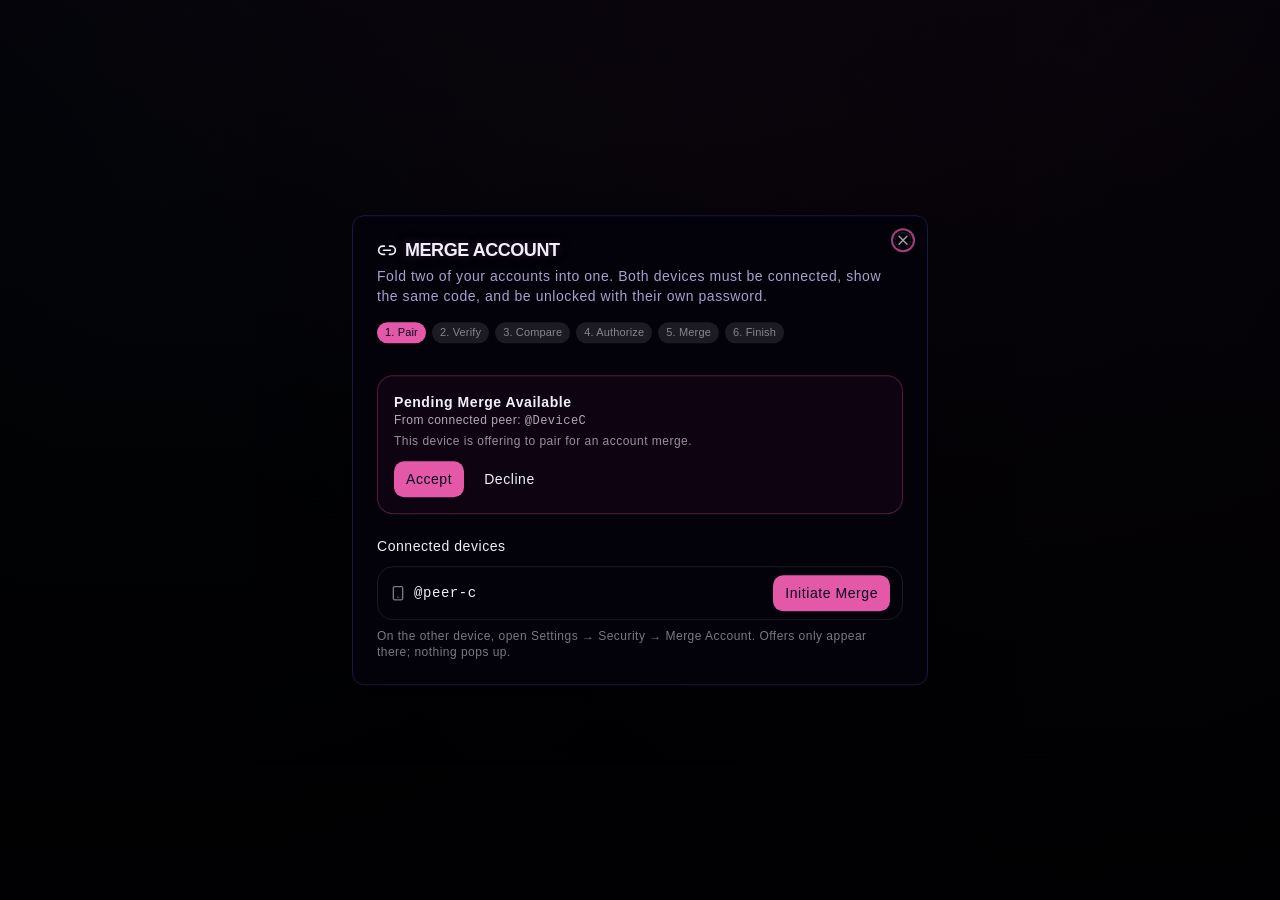
AccountMergeWizard › shows a pending offer only inside the open panel, with Accept and Decline
expect the text "Pending Merge Available" is shown: met, box top-left (394, 394), bottom-right (572, 410)
Click the button "Accept" at point(429, 479), box top-left (394, 461), bottom-right (464, 497)
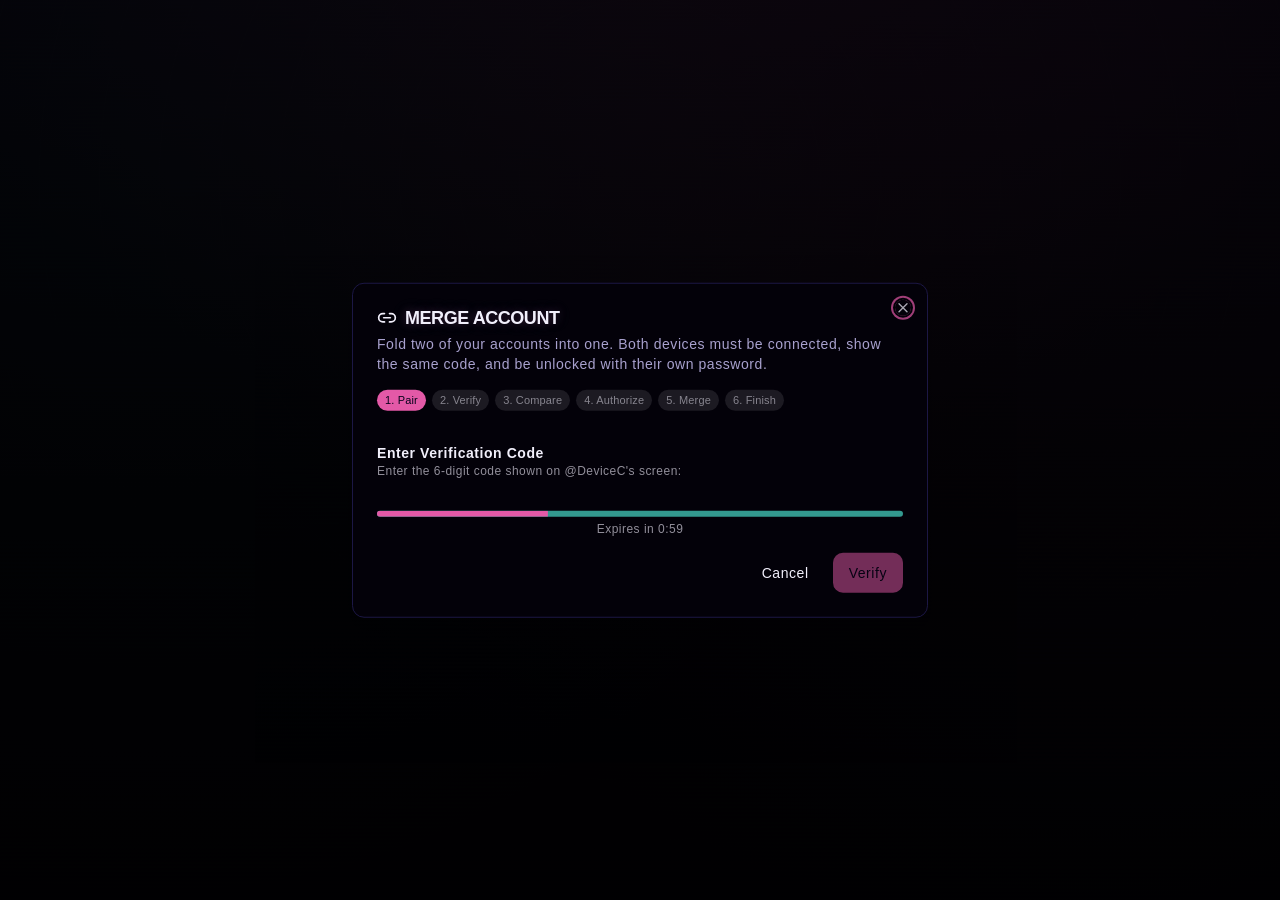
expect the text "Enter Verification Code" is shown: met, box top-left (377, 444), bottom-right (544, 460)
